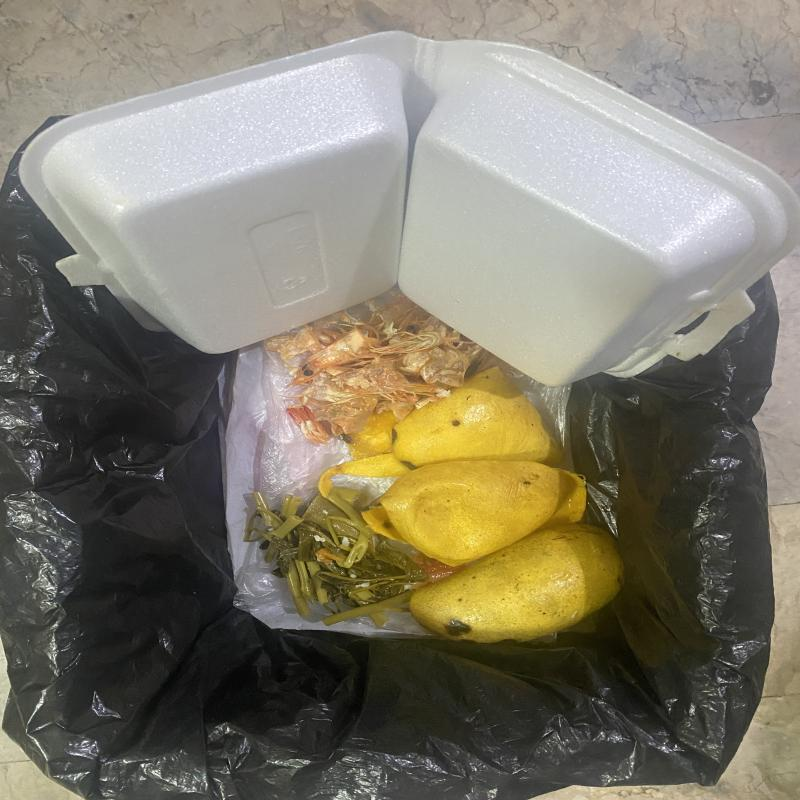fruit peels: (316, 366, 565, 498), (409, 524, 624, 644), (361, 461, 588, 566)
left-over food: (265, 286, 484, 444)
styrofoam containers: (16, 31, 800, 387)
vegetable peels: (243, 492, 455, 627)
